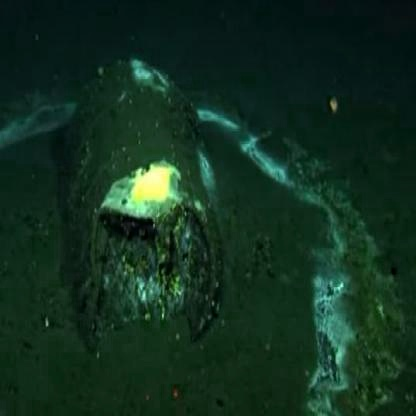misc: (64, 70, 230, 345)
